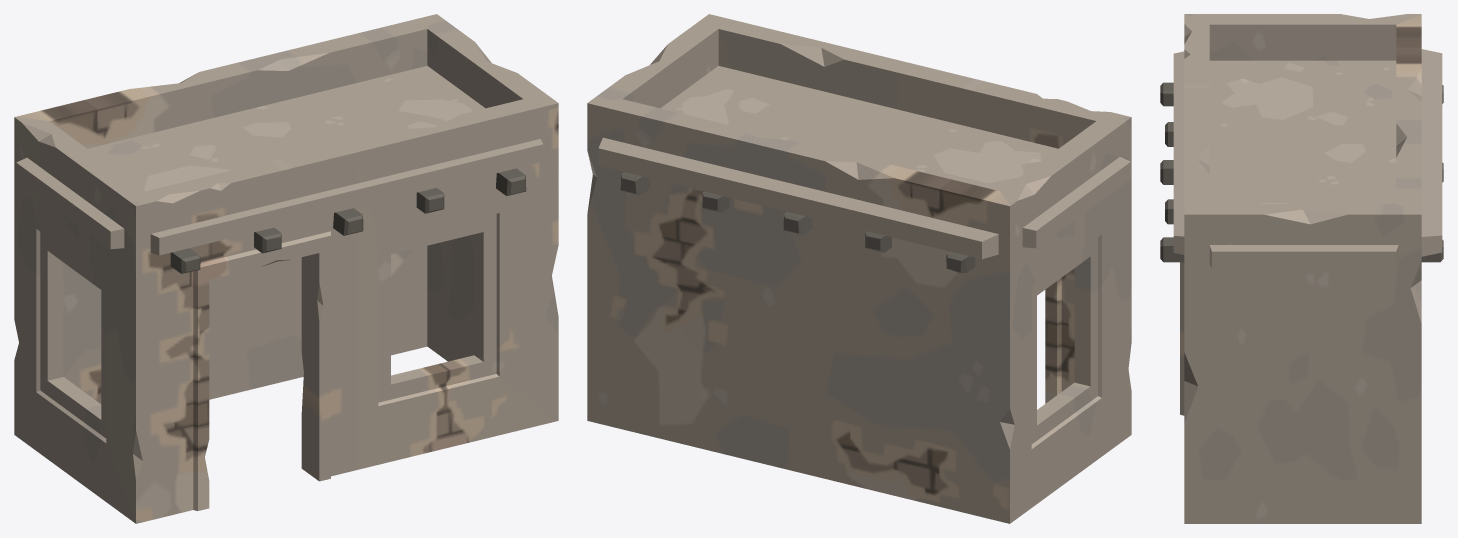
Rendered from SM_Bld_Village_House_07.fbx.
3 renders of one model, left to right at view 1: azimuth 30°, elevation 25°; view 2: azimuth 150°, elevation 25°; view 3: azimuth 270°, elevation 25°, orthographic. The views are drawn at different scales.
Visible parts, largest first — view 1: SM_Bld_Village_House_07; view 2: SM_Bld_Village_House_07; view 3: SM_Bld_Village_House_07.
Part boxes in pixels (x1,y1,x2,y2): SM_Bld_Village_House_07: [14, 14, 558, 523]; SM_Bld_Village_House_07: [587, 14, 1131, 523]; SM_Bld_Village_House_07: [1160, 14, 1443, 523].
Size of the model in its own units: 500 by 339 by 282.
